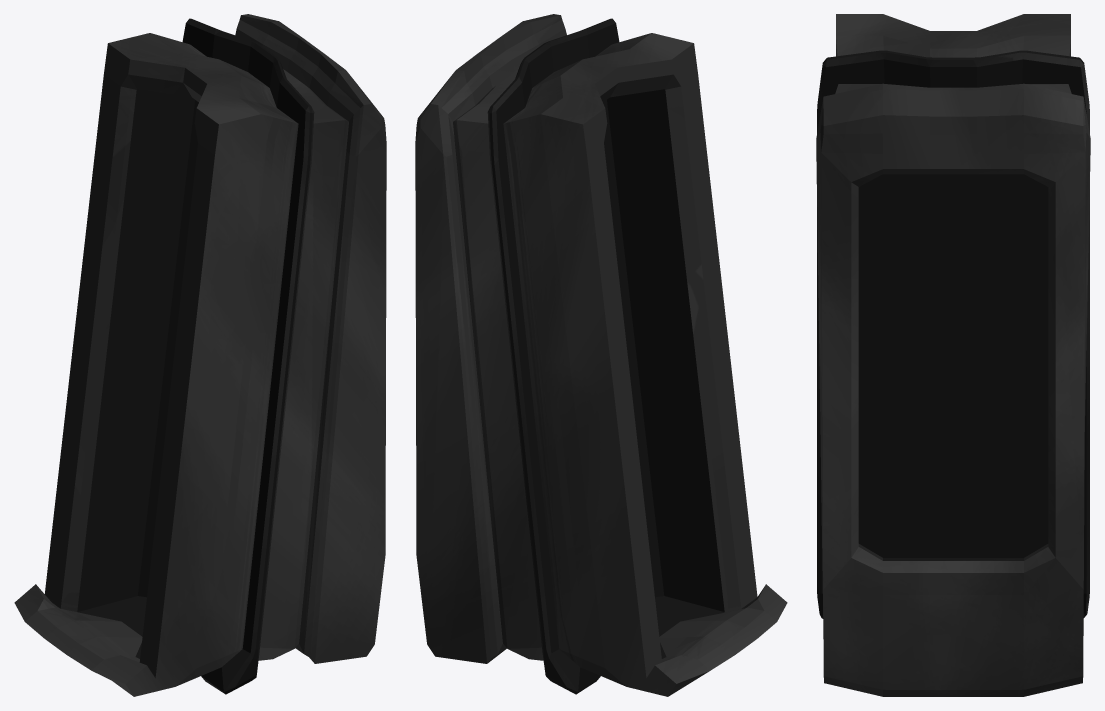
Rendered from PatchForButtOfTheWeaponPolymer.fbx.
3 renders of one model, left to right at view 1: azimuth 30°, elevation 25°; view 2: azimuth 150°, elevation 25°; view 3: azimuth 270°, elevation 25°, orthographic. The views are drawn at different scales.
Parts seen in each view (by area): view 1: PatchForButtOfTheWeaponPolymer; view 2: PatchForButtOfTheWeaponPolymer; view 3: PatchForButtOfTheWeaponPolymer.
Boxes of the visible parts, x1,y1,x2,y2 form: PatchForButtOfTheWeaponPolymer: [14, 14, 386, 696]; PatchForButtOfTheWeaponPolymer: [415, 14, 787, 696]; PatchForButtOfTheWeaponPolymer: [816, 14, 1090, 696].
Size of the model in its own units: 11.79 by 23.88 by 9.63.
Materials: 1 (1 with a texture image).
